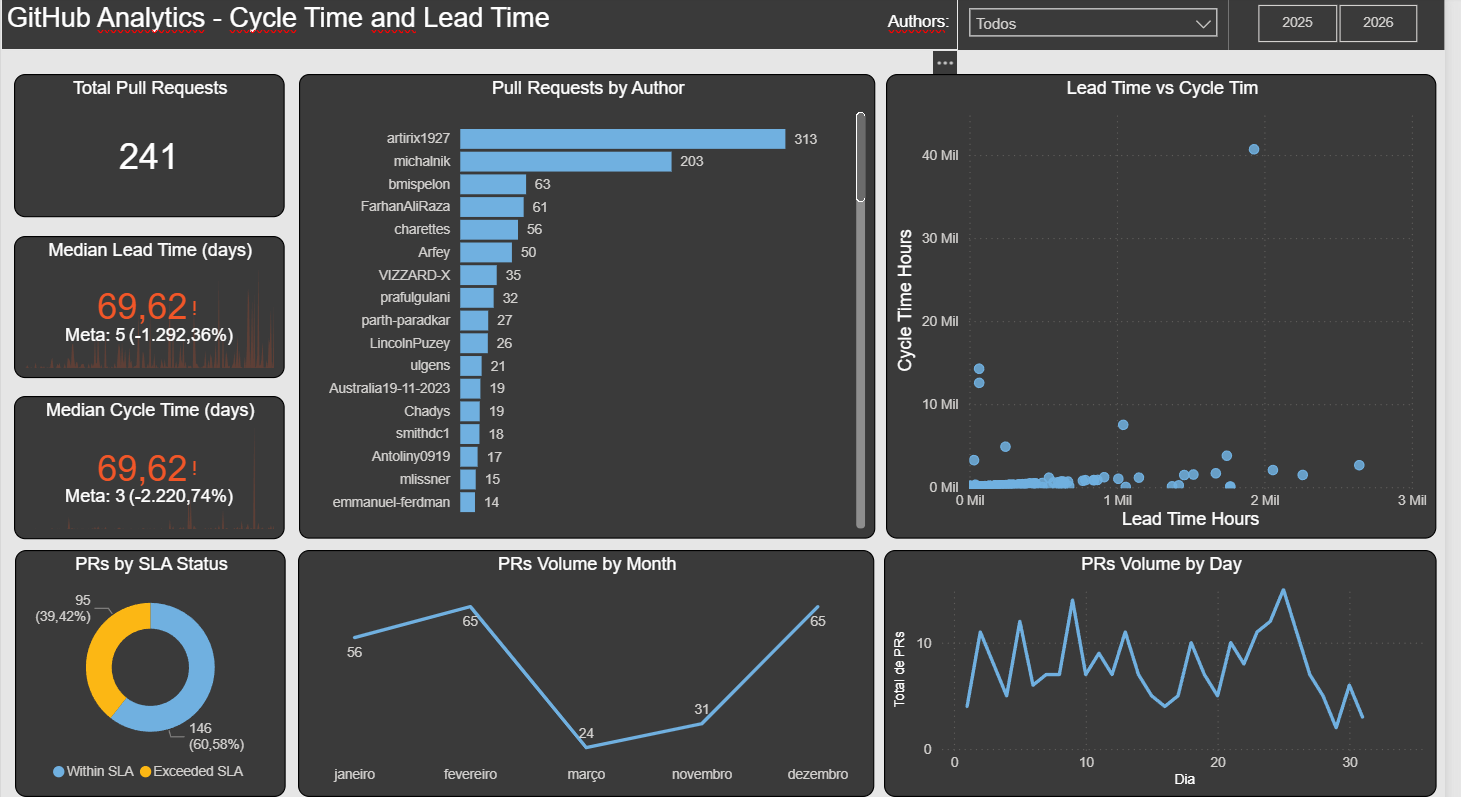

What the dashboard file says about the page in this screenshot:
{"tool":"powerbi","page":{"name":"Página 1","canvas":[1280,720],"ordinal":0},"visuals":[{"type":"card","title":"Total Pull Requests","fields":{"Values":["metrics.Total PRs"]},"box":[11.9,68.6,239.5,127.1],"z":0},{"type":"kpi","title":"Median Cycle Time (days)","fields":{"Indicator":["metrics.Cycle Time Median (In Days)"],"TrendLine":["cycle_time.merged_at"],"Goal":["metrics.Meta Cycle Time (Days)"]},"box":[11.9,353.8,239.5,127.1],"z":1000},{"type":"kpi","title":"Median Lead Time (days)","fields":{"TrendLine":["cycle_time.merged_at"],"Indicator":["metrics.Lead Time Median (In Days)"],"Goal":["metrics.Meta Lead Time (Days)"]},"box":[11.9,212.1,239.5,126.2],"z":2000},{"type":"lineChart","title":"PRs Volume by Day","fields":{"Category":["cycle_time.create_at.Variation.Hierarquia de datas.Dia"],"Y":["metrics.Total de PRs"]},"box":[782.6,490.1,490.1,219.4],"z":3000},{"type":"slicer","fields":{"Values":["cycle_time.create_at.Variation.Hierarquia de datas.Ano"]},"box":[1088.9,0,191.1,46.6],"z":4000},{"type":"lineChart","title":"PRs Volume by Month","fields":{"Category":["cycle_time.create_at.Variation.Hierarquia de datas.Mês"],"Y":["metrics.Total de PRs"]},"box":[263.3,490.1,511.1,219.4],"z":5000},{"type":"clusteredBarChart","title":"Pull Requests by Author","fields":{"Category":["cycle_time.author"],"Y":["metrics.Cycle Time Median (In Days)"]},"box":[264.2,68.6,511.1,412.3],"z":6000},{"type":"scatterChart","title":"Lead Time vs Cycle Tim","fields":{"Y":["cycle_time.cycle_time_hours"],"X":["cycle_time.lead_time_hours"]},"box":[784.5,68.6,488.2,412.3],"z":7000},{"type":"textbox","box":[0,0,849,47],"z":8000},{"type":"slicer","fields":{"Values":["cycle_time.author"]},"box":[849.4,0,239.5,46.6],"z":9000},{"type":"donutChart","title":"PRs by SLA Status","fields":{"Y":["CountNonNull(cycle_time.Status Cycle Time)"],"Category":["cycle_time.Status Cycle Time"]},"box":[12,490,240,219],"z":10000}]}

Visuals, with their boxes in screenshot pixels (x1, y1, x2, y2):
"Total Pull Requests" card: l=10, t=70, r=280, b=213
"Median Cycle Time (days)" kpi: l=10, t=392, r=280, b=535
"Median Lead Time (days)" kpi: l=10, t=232, r=280, b=374
"PRs Volume by Day" lineChart: l=880, t=546, r=1433, b=794
slicer - cycle_time.create_at.Variation.Hierarquia de datas.Ano: l=1226, t=0, r=1442, b=45
"PRs Volume by Month" lineChart: l=294, t=546, r=871, b=794
"Pull Requests by Author" clusteredBarChart: l=295, t=70, r=872, b=535
"Lead Time vs Cycle Tim" scatterChart: l=882, t=70, r=1433, b=535
textbox: l=0, t=0, r=955, b=45
slicer - cycle_time.author: l=955, t=0, r=1226, b=45
"PRs by SLA Status" donutChart: l=10, t=546, r=281, b=793
